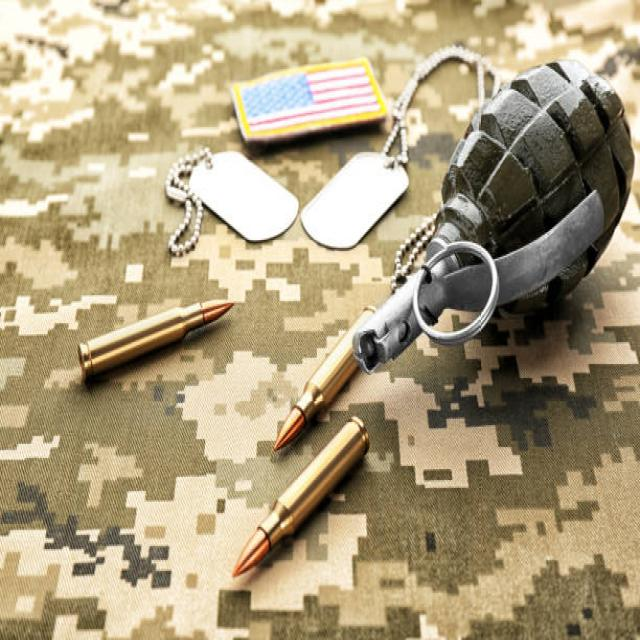grenade: (350, 49, 635, 383)
